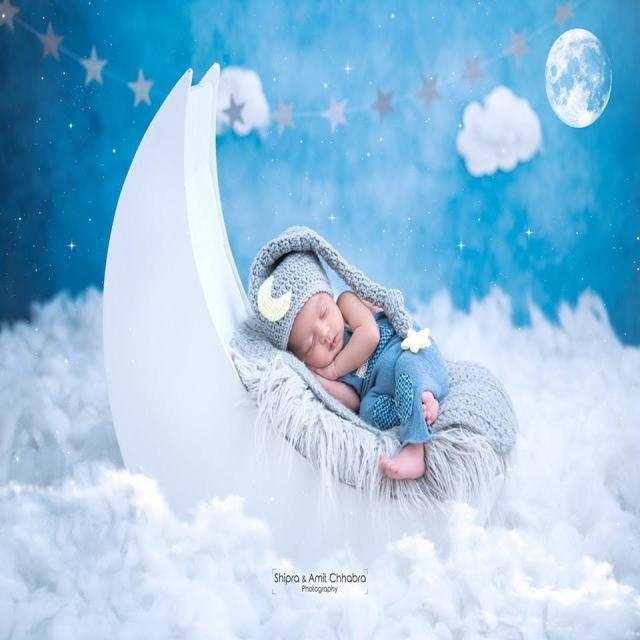non-dog: (255, 227, 450, 484)
